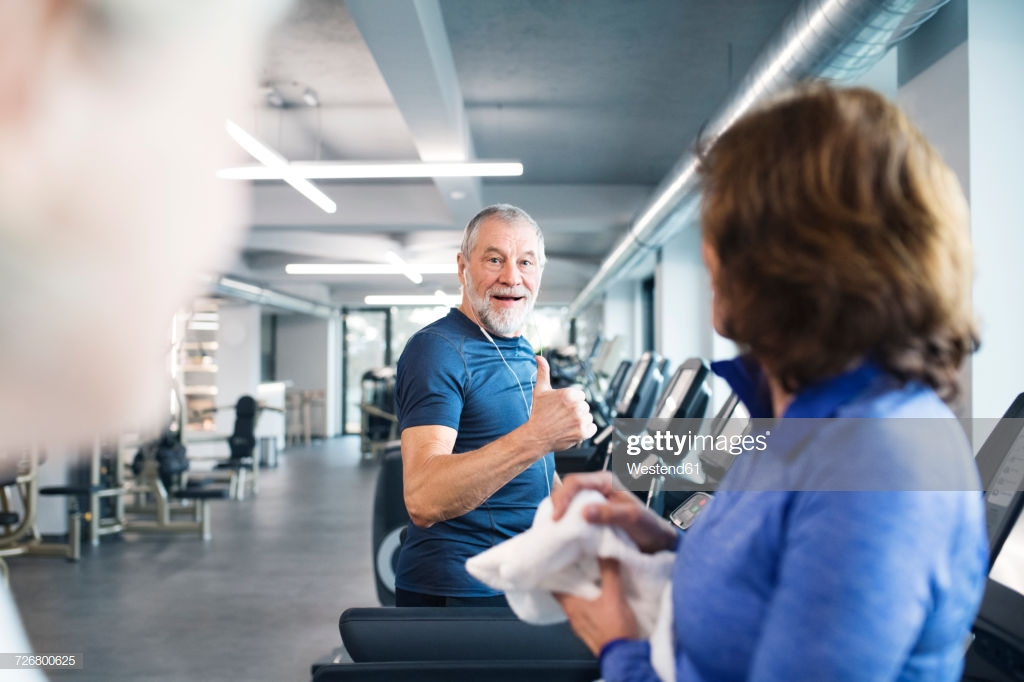thumbsup: (534, 355, 597, 438)
